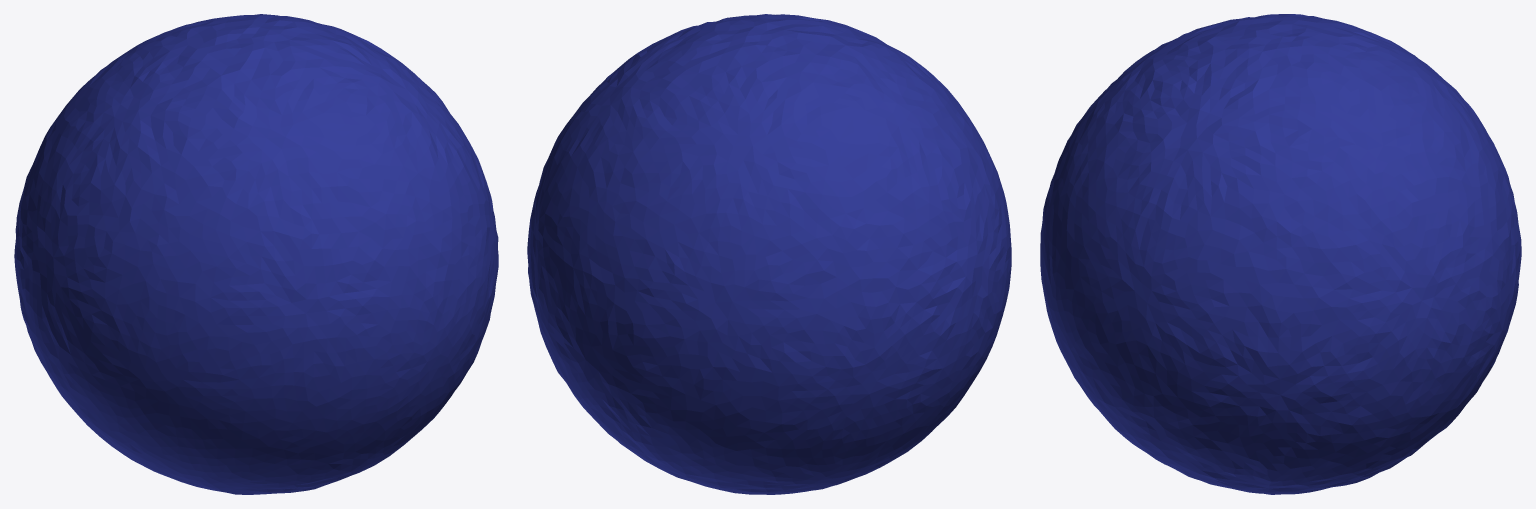
File: Neptune.gltf
3 views of the same model, side by side, from view 1: azimuth 30°, elevation 25°; view 2: azimuth 150°, elevation 25°; view 3: azimuth 270°, elevation 25° (orthographic).
Visible parts, largest first — view 1: Icosphere; view 2: Icosphere; view 3: Icosphere.
Boxes of the visible parts, <box> form: Icosphere: <box>14,14,498,494</box>; Icosphere: <box>527,14,1011,494</box>; Icosphere: <box>1040,14,1521,494</box>.
Bounding box in the file's own units: 18.85 × 18.75 × 18.82.
